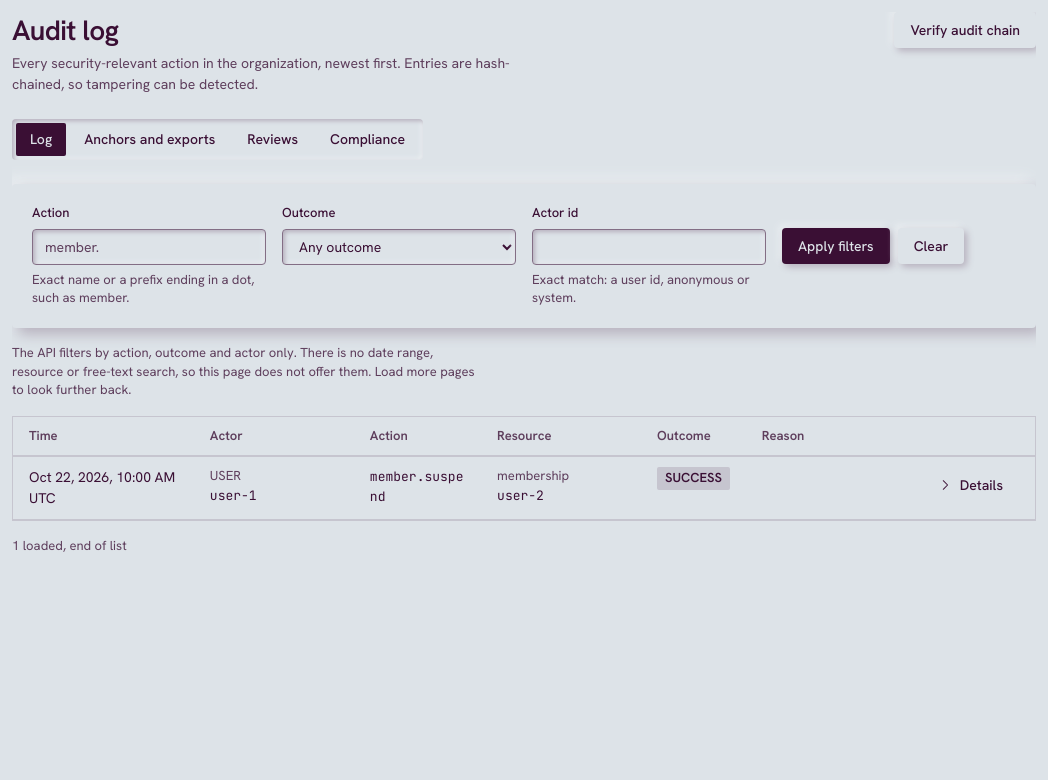
Test: AuditScreen › reports a broken chain honestly
This screenshot has width=1048, height=780.
Click the button "Verify audit chain" at (965, 30), box [894,12,1036,48]
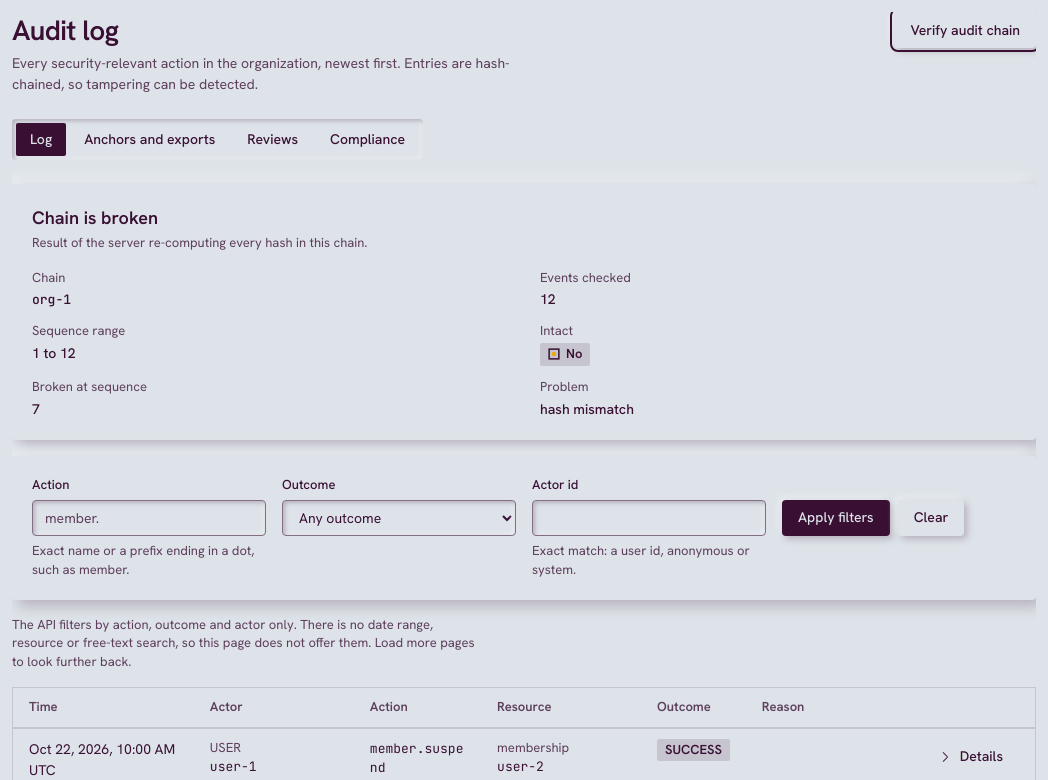
Now the heading "Chain is broken" is shown, box [32,206,158,229]
Now the text "hash mismatch" is shown, box [540,400,634,418]
Now the text "1 to 12" is shown, box [32,344,76,362]
